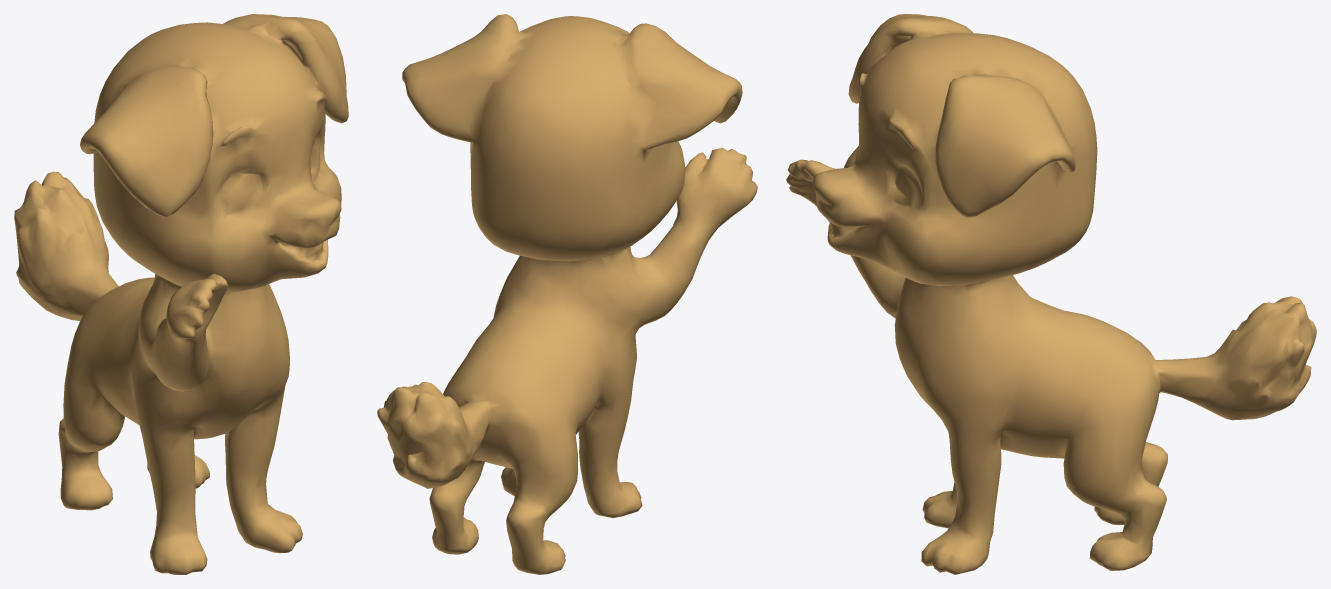
Rendered from pet_happy_7d.glb.
The picture shows the model from 3 angles, left to right: view 1: azimuth 30°, elevation 25°; view 2: azimuth 150°, elevation 25°; view 3: azimuth 270°, elevation 25°; orthographic projection. The views are drawn at different scales.
Parts seen in each view (by area): view 1: Mesh1.0; view 2: Mesh1.0; view 3: Mesh1.0.
Part boxes in pixels (left/top/right/bottom): Mesh1.0: left=14, top=14, right=348, bottom=574; Mesh1.0: left=377, top=14, right=757, bottom=574; Mesh1.0: left=786, top=14, right=1316, bottom=574.
Size of the model in its own units: 1.23 by 2.01 by 1.94.
